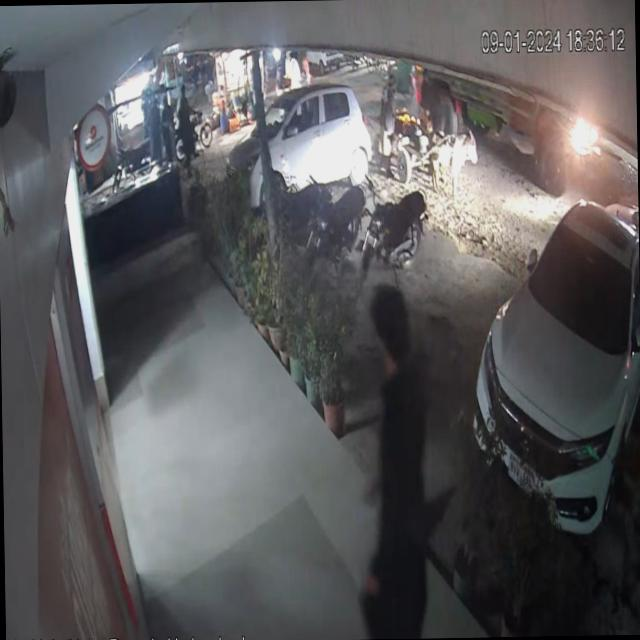Car: (469, 179, 640, 555), (223, 84, 389, 216)
Motorcycle: (356, 168, 434, 306), (304, 180, 366, 290)
